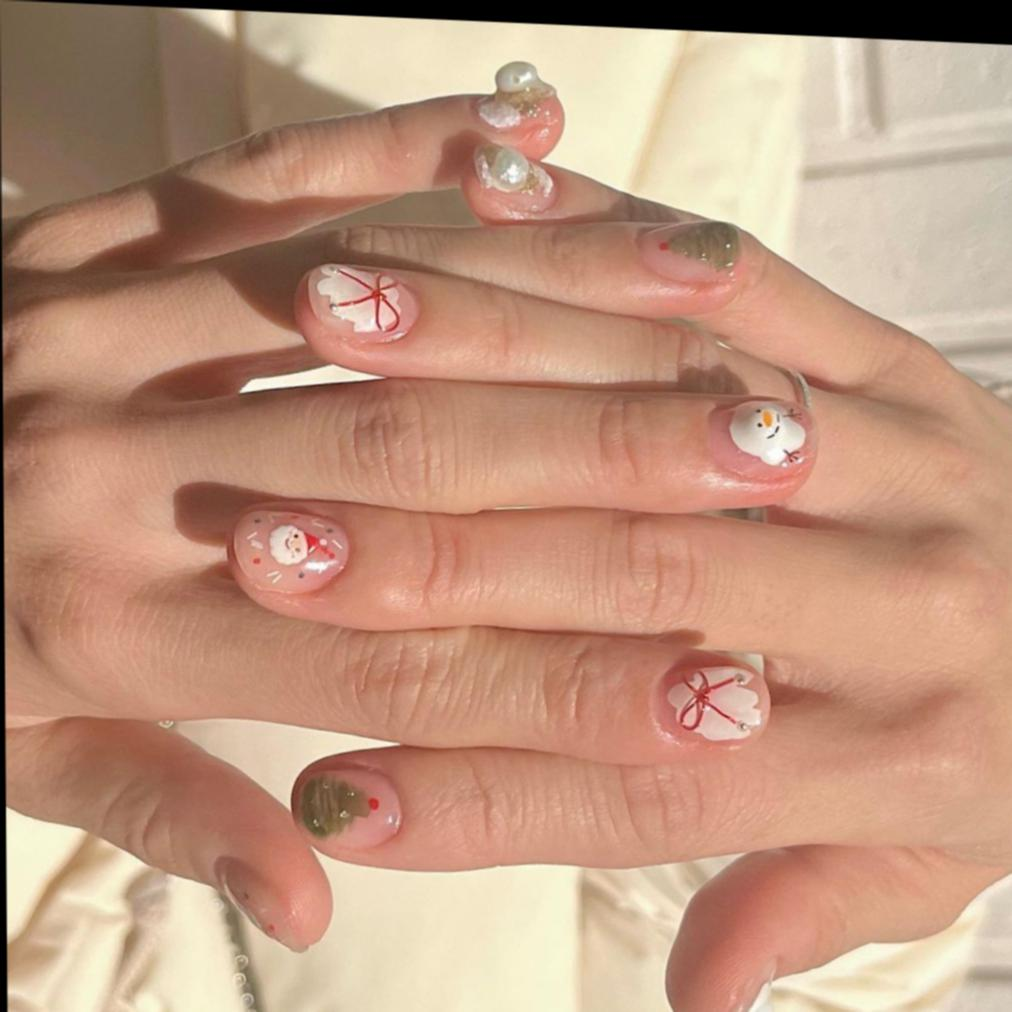nail: (652, 656, 772, 756), (230, 506, 351, 601), (296, 763, 404, 855), (309, 264, 420, 351), (710, 399, 813, 481), (637, 217, 743, 290), (215, 857, 296, 948), (475, 144, 553, 212), (479, 62, 557, 129)
